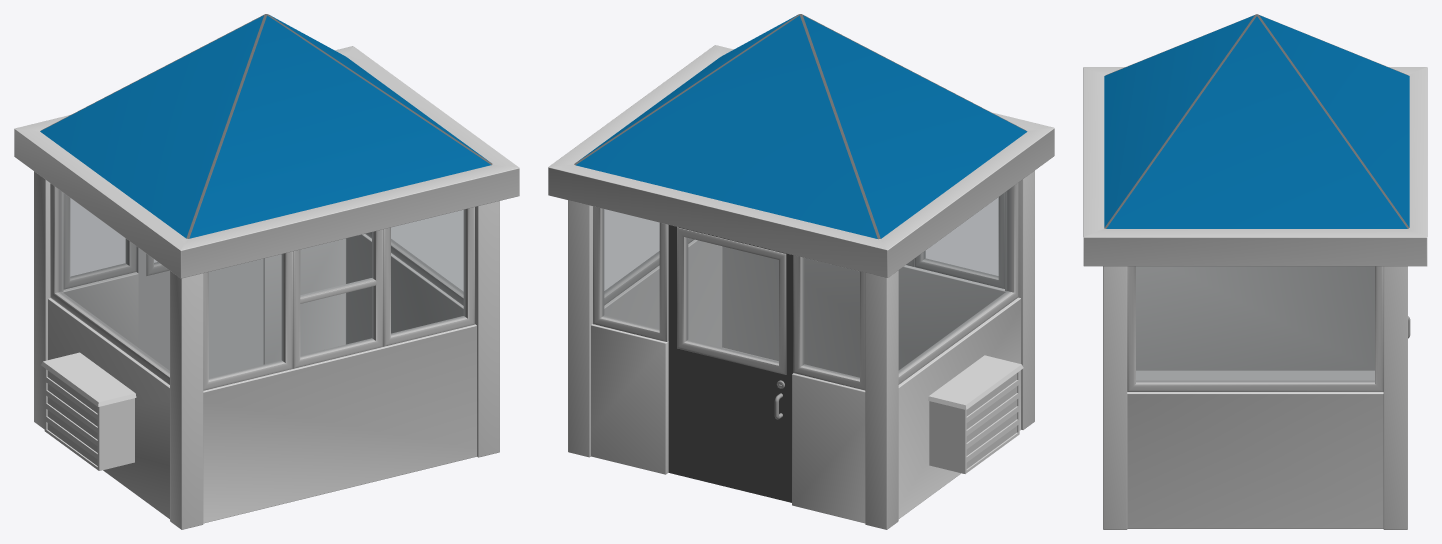
The model's file is xiaotingzi.fbx.
The picture shows the model from 3 angles, left to right: view 1: azimuth 30°, elevation 25°; view 2: azimuth 150°, elevation 25°; view 3: azimuth 270°, elevation 25°; orthographic projection. The views are drawn at different scales.
Visible parts, largest first — view 1: Guardroom_05; view 2: Guardroom_05; view 3: Guardroom_05.
Boxes of the visible parts, box(x1,y1,x2,y2) form: Guardroom_05: box(14, 14, 519, 529); Guardroom_05: box(548, 14, 1054, 529); Guardroom_05: box(1083, 14, 1427, 529).
Size of the model in its own units: 5.69 by 6.29 by 4.51.
